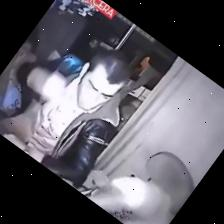person: (2, 50, 130, 188)
